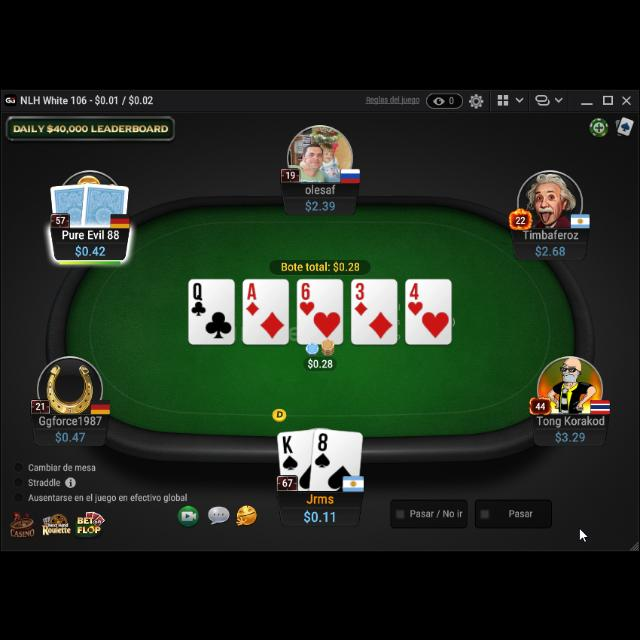3d: (352, 279, 370, 315)
4h: (406, 279, 424, 315)
6h: (298, 280, 316, 316)
8s: (313, 429, 333, 467)
Ad: (244, 278, 262, 316)
Ks: (281, 432, 301, 471)
Qc: (192, 280, 208, 316)
bet_text: (306, 354, 334, 368)
card_back: (81, 180, 131, 230), (48, 180, 92, 228)
dealer: (270, 404, 288, 422)
pot_text: (280, 258, 362, 272)
stack_text: (73, 242, 107, 258), (554, 426, 586, 442), (55, 426, 87, 442), (303, 508, 337, 522), (304, 196, 338, 210), (534, 241, 566, 255)
